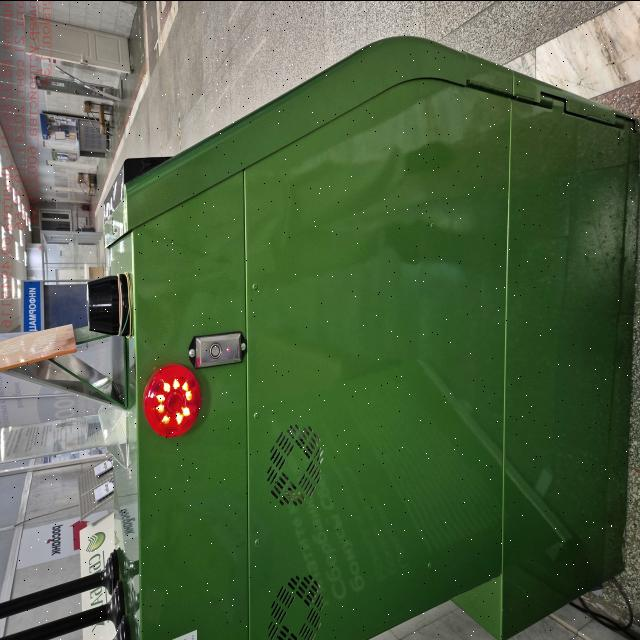bank: (98, 31, 636, 640)
